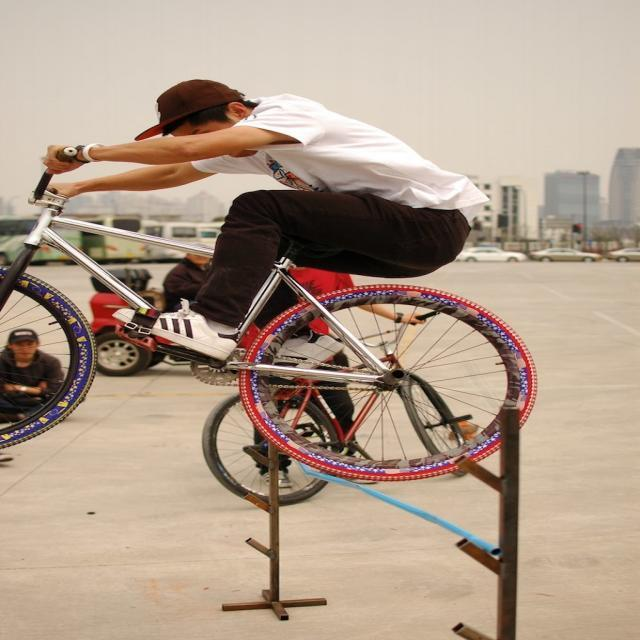car: (0, 146, 528, 484), (200, 328, 347, 510)
